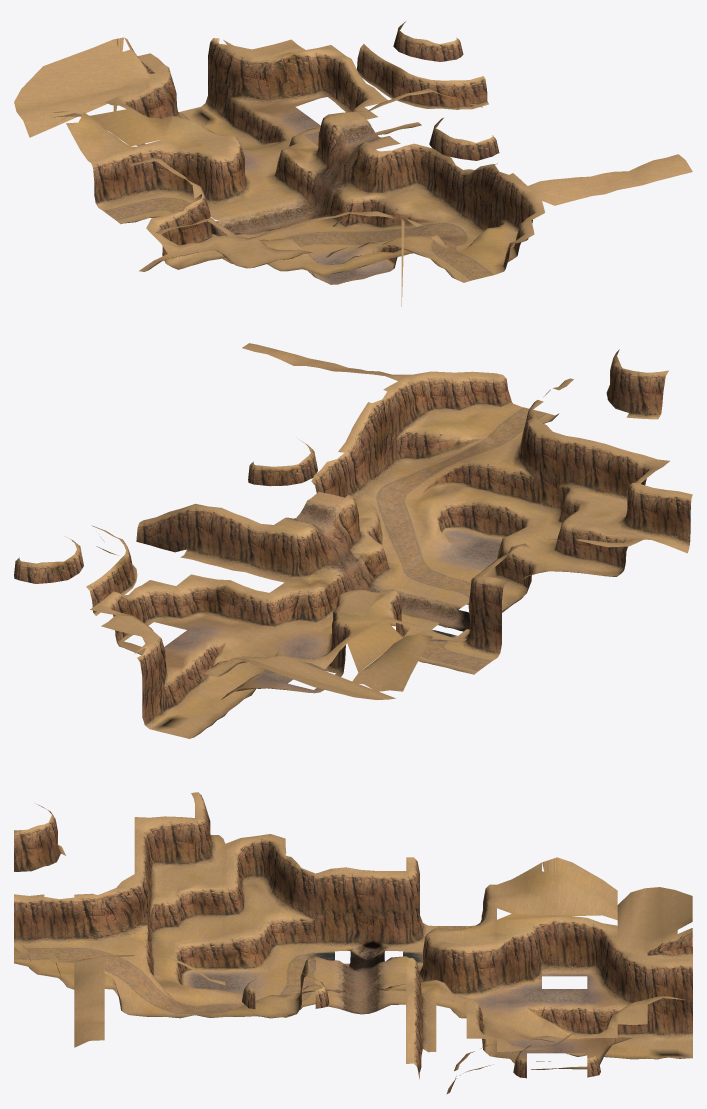
File: Mis1_Zone1A.glb
3 views of the same model, one above another, from view 1: azimuth 30°, elevation 25°; view 2: azimuth 150°, elevation 25°; view 3: azimuth 270°, elevation 25° (orthographic). The views are drawn at different scales.
Parts seen in each view (by area): view 1: MIS1_ZONE1A238, MIS1_ZONE1A250, MIS1_ZONE1A239, MIS1_ZONE1A243, MIS1_ZONE1A259, MIS1_ZONE1A168, MIS1_ZONE1A254, MIS1_ZONE1A108, MIS1_ZONE1A107, MIS1_ZONE1A169, MIS1_ZONE1A109, MIS1_ZONE1A158 (+65 smaller); view 2: MIS1_ZONE1A039, MIS1_ZONE1A033, MIS1_ZONE1A040, MIS1_ZONE1A140, MIS1_ZONE1A148, MIS1_ZONE1A150, MIS1_ZONE1A151, MIS1_ZONE1A038, MIS1_ZONE1A037, MIS1_ZONE1A059, MIS1_ZONE1A149, MIS1_ZONE1A060 (+55 smaller); view 3: MIS1_ZONE1A257, MIS1_ZONE1A131, MIS1_ZONE1A122, MIS1_ZONE1A111, MIS1_ZONE1A101, MIS1_ZONE1A216, MIS1_ZONE1A172, MIS1_ZONE1A247, MIS1_ZONE1A047, MIS1_ZONE1A002, MIS1_ZONE1A016, MIS1_ZONE1A029 (+67 smaller).
Part boxes in pixels (bbox=[...]): MIS1_ZONE1A238: bbox=[269, 50, 317, 109]; MIS1_ZONE1A250: bbox=[231, 49, 270, 103]; MIS1_ZONE1A239: bbox=[294, 48, 338, 103]; MIS1_ZONE1A243: bbox=[17, 88, 121, 137]; MIS1_ZONE1A259: bbox=[196, 44, 235, 126]; MIS1_ZONE1A168: bbox=[104, 146, 147, 207]; MIS1_ZONE1A254: bbox=[15, 62, 116, 101]; MIS1_ZONE1A108: bbox=[369, 146, 410, 199]; MIS1_ZONE1A107: bbox=[344, 151, 382, 231]; MIS1_ZONE1A169: bbox=[129, 143, 176, 201]; MIS1_ZONE1A109: bbox=[394, 143, 433, 194]; MIS1_ZONE1A158: bbox=[171, 146, 210, 202]; MIS1_ZONE1A039: bbox=[525, 431, 578, 515]; MIS1_ZONE1A033: bbox=[392, 383, 434, 465]; MIS1_ZONE1A040: bbox=[499, 427, 549, 509]; MIS1_ZONE1A140: bbox=[473, 577, 508, 660]; MIS1_ZONE1A148: bbox=[259, 526, 306, 584]; MIS1_ZONE1A150: bbox=[207, 509, 259, 570]; MIS1_ZONE1A151: bbox=[180, 506, 232, 563]; MIS1_ZONE1A038: bbox=[559, 437, 604, 514]; MIS1_ZONE1A037: bbox=[578, 444, 630, 499]; MIS1_ZONE1A059: bbox=[652, 491, 692, 553]; MIS1_ZONE1A149: bbox=[233, 521, 284, 576]; MIS1_ZONE1A060: bbox=[626, 487, 677, 540]; MIS1_ZONE1A257: bbox=[647, 958, 685, 1039]; MIS1_ZONE1A131: bbox=[373, 871, 406, 954]; MIS1_ZONE1A122: bbox=[346, 867, 378, 954]; MIS1_ZONE1A111: bbox=[315, 867, 345, 948]; MIS1_ZONE1A101: bbox=[285, 868, 315, 946]; MIS1_ZONE1A216: bbox=[557, 916, 587, 972]; MIS1_ZONE1A172: bbox=[466, 943, 496, 998]; MIS1_ZONE1A247: bbox=[617, 958, 647, 1036]; MIS1_ZONE1A047: bbox=[165, 816, 194, 867]; MIS1_ZONE1A002: bbox=[14, 894, 44, 944]; MIS1_ZONE1A016: bbox=[74, 893, 115, 942]; MIS1_ZONE1A029: bbox=[95, 890, 142, 946].
Size of the model in its own units: 154 by 51.63 by 180.
22 materials, 22 textured.
